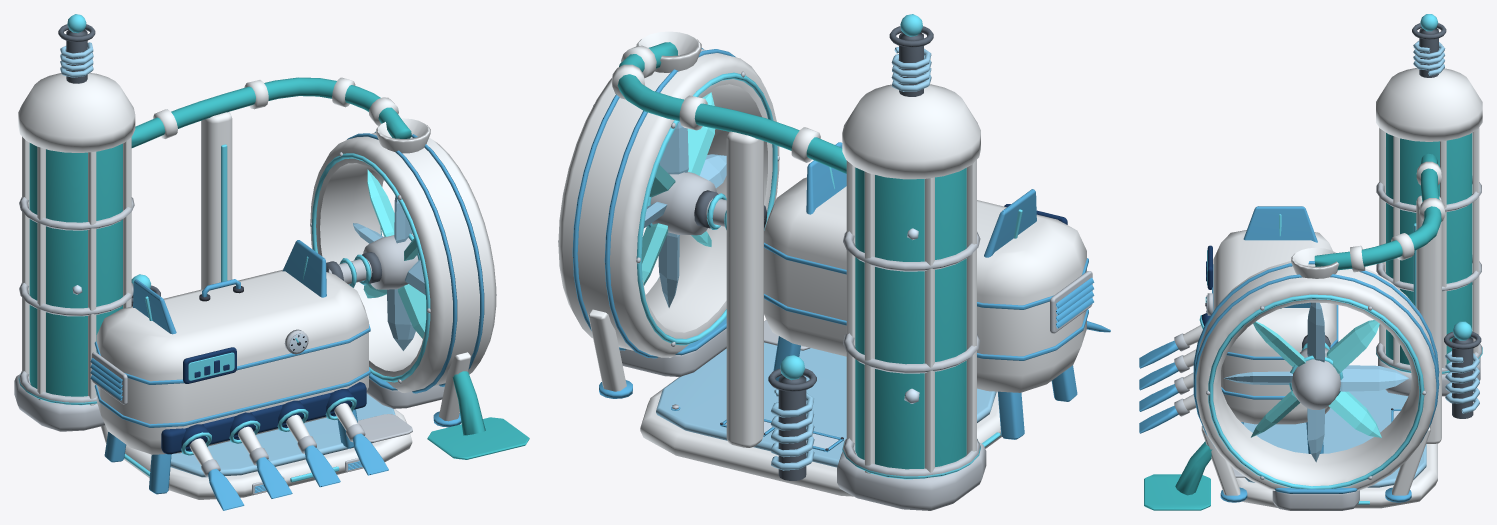
Rendered from ChiselMill_T3.fbx.
3 views of the same model, side by side, from view 1: azimuth 30°, elevation 25°; view 2: azimuth 150°, elevation 25°; view 3: azimuth 270°, elevation 25° (orthographic). The views are drawn at different scales.
Visible parts, largest first — view 1: ChiselMillT3Engine, ChiselMillT3Shroud, ChiselMillT3Tank, ChiselMillT3TankGlassGlow, ChiselMillT3Deck, ChiselMillT3MainCollars, ChiselMillT3Chisels, ChiselMillT3MainGlow, ChiselMillT3TurbineGlow, ChiselMillT3WaterGlow, ChiselMillT3ShroudGlow, ChiselMillT3EngineGlow (+5 smaller); view 2: ChiselMillT3Shroud, ChiselMillT3Tank, ChiselMillT3Engine, ChiselMillT3TankGlassGlow, ChiselMillT3Deck, ChiselMillT3MainCollars, ChiselMillT3TurbineGlow, ChiselMillT3MainGlow, ChiselMillT3Coils, ChiselMillT3ShroudGlow, ChiselMillT3Turbine, ChiselMillT3EngineLegs (+2 smaller); view 3: ChiselMillT3Shroud, ChiselMillT3Tank, ChiselMillT3Engine, ChiselMillT3TankGlassGlow, ChiselMillT3TurbineGlow, ChiselMillT3Deck, ChiselMillT3MainCollars, ChiselMillT3ShroudGlow, ChiselMillT3Chisels, ChiselMillT3WaterGlow, ChiselMillT3MainGlow, ChiselMillT3Coils (+2 smaller).
Part boxes in pixels (x1,y1,x2,y2): ChiselMillT3Engine: (90, 240, 370, 454); ChiselMillT3Shroud: (310, 118, 496, 427); ChiselMillT3Tank: (14, 24, 135, 431); ChiselMillT3TankGlassGlow: (29, 143, 122, 396); ChiselMillT3Deck: (100, 393, 412, 499); ChiselMillT3MainCollars: (153, 77, 398, 289); ChiselMillT3Chisels: (189, 403, 388, 510); ChiselMillT3MainGlow: (131, 77, 411, 147); ChiselMillT3TurbineGlow: (353, 169, 426, 350); ChiselMillT3WaterGlow: (427, 371, 529, 459); ChiselMillT3ShroudGlow: (311, 153, 430, 382); ChiselMillT3EngineGlow: (145, 256, 356, 455); ChiselMillT3Shroud: (558, 31, 779, 398); ChiselMillT3Tank: (837, 26, 986, 510); ChiselMillT3Engine: (764, 142, 1094, 392); ChiselMillT3TankGlassGlow: (855, 167, 966, 469); ChiselMillT3Deck: (640, 342, 1001, 496); ChiselMillT3MainCollars: (611, 45, 820, 447); ChiselMillT3TurbineGlow: (641, 92, 726, 307); ChiselMillT3MainGlow: (617, 42, 846, 173); ChiselMillT3Coils: (768, 368, 816, 480); ChiselMillT3ShroudGlow: (636, 72, 777, 345); ChiselMillT3Turbine: (646, 172, 716, 235); ChiselMillT3EngineLegs: (773, 336, 1077, 439); ChiselMillT3Shroud: (1193, 247, 1439, 510); ChiselMillT3Tank: (1376, 23, 1482, 396); ChiselMillT3Engine: (1201, 206, 1338, 424); ChiselMillT3TankGlassGlow: (1386, 133, 1472, 364); ChiselMillT3TurbineGlow: (1224, 302, 1408, 462); ChiselMillT3Deck: (1236, 389, 1437, 508); ChiselMillT3MainCollars: (1350, 161, 1445, 443); ChiselMillT3ShroudGlow: (1208, 294, 1424, 489); ChiselMillT3Chisels: (1139, 325, 1202, 433); ChiselMillT3WaterGlow: (1144, 441, 1212, 510); ChiselMillT3MainGlow: (1314, 153, 1441, 270); ChiselMillT3Coils: (1444, 332, 1481, 418).
Bounding box in the file's own units: 344 × 375 × 303.
